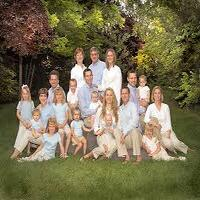person: (102, 35, 120, 74), (118, 85, 138, 116), (69, 44, 90, 73), (9, 80, 36, 102), (101, 86, 120, 117), (79, 66, 99, 94), (83, 40, 102, 69), (146, 84, 171, 106), (41, 116, 66, 136), (43, 71, 64, 90), (34, 85, 52, 107), (126, 69, 141, 95), (71, 108, 87, 129), (30, 109, 47, 123)
